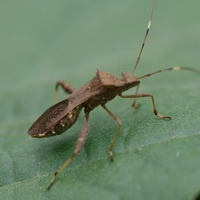insect: (54, 71, 199, 199), (44, 0, 151, 86), (135, 0, 199, 75), (85, 110, 113, 160)
